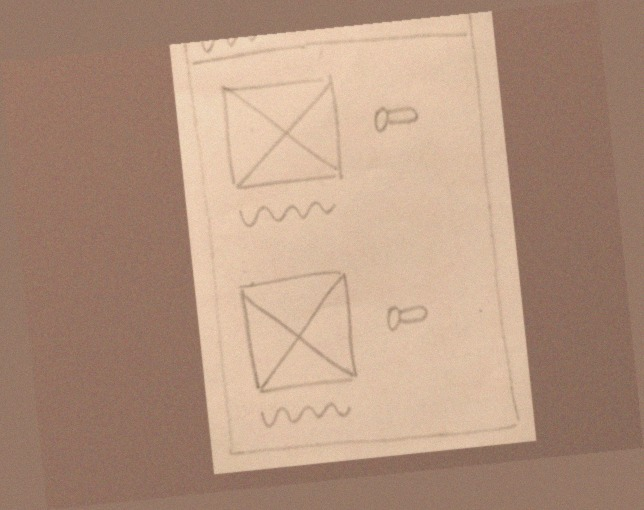image: (214, 67, 347, 199), (231, 264, 364, 396)
switch: (365, 96, 428, 138), (374, 293, 437, 335)
text: (233, 194, 338, 234), (253, 392, 358, 432)
